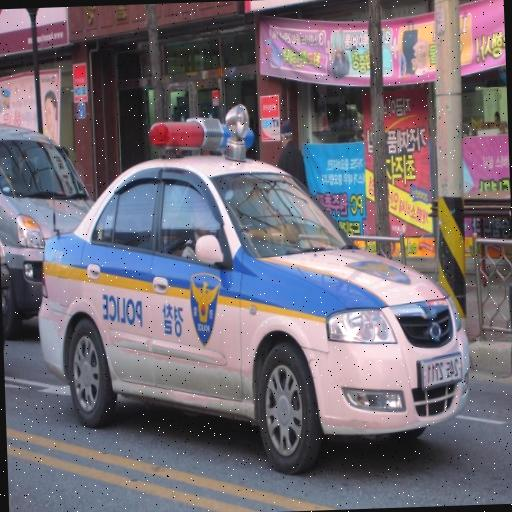Ambulance: (32, 108, 475, 471)
